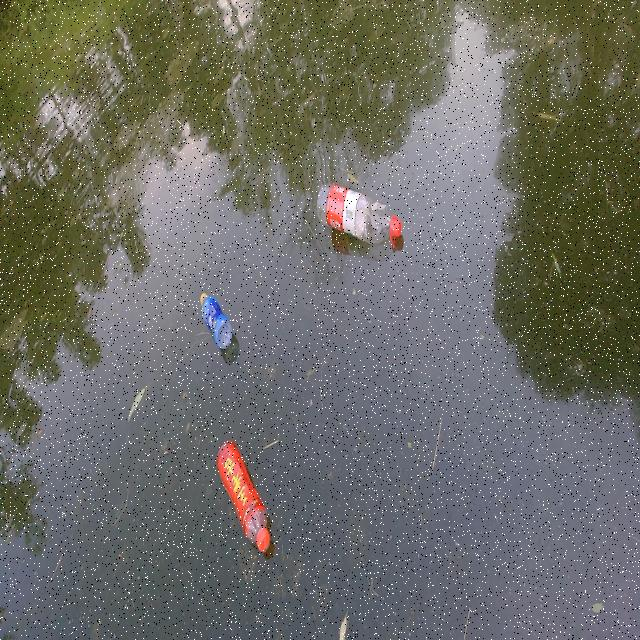Bottle: (213, 436, 271, 555), (313, 179, 403, 253), (198, 290, 233, 355)
